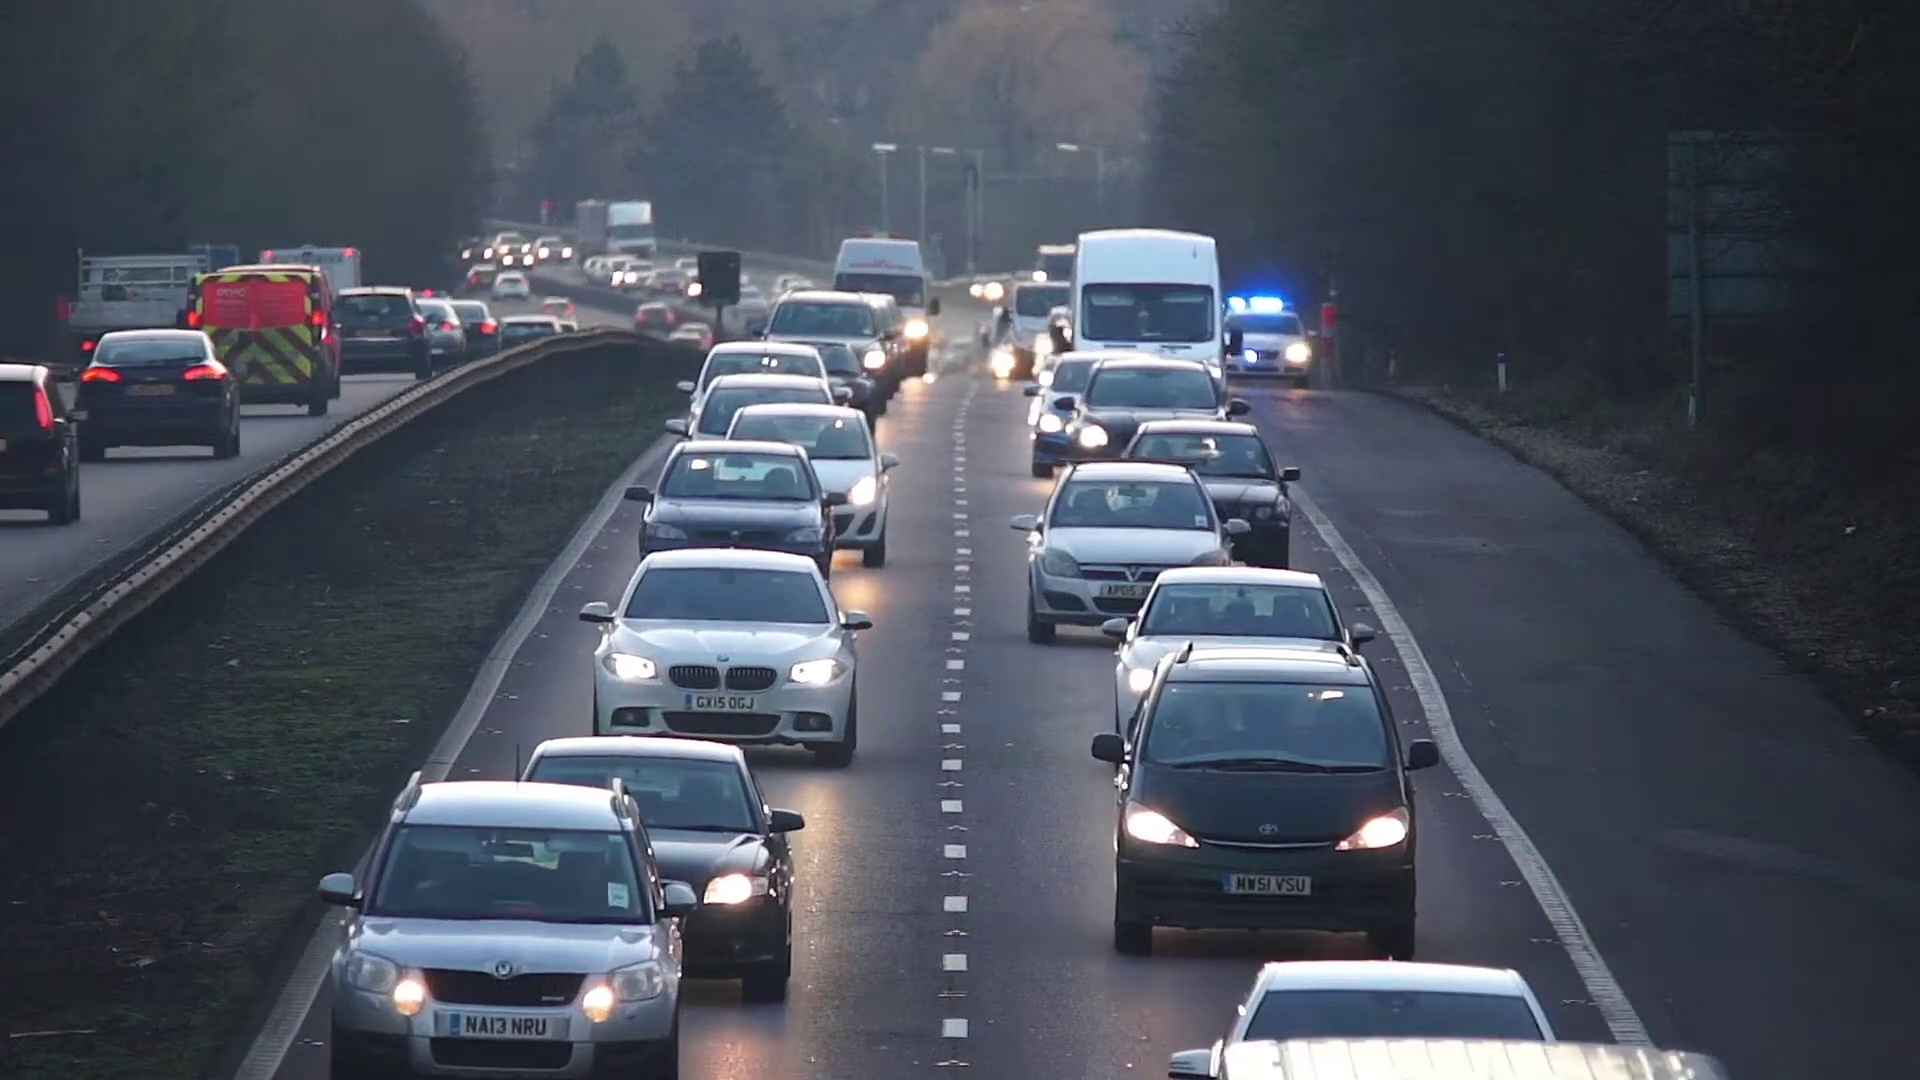license_plate: (454, 1013, 559, 1037), (1226, 873, 1312, 897), (687, 690, 756, 713), (1100, 575, 1154, 603)
